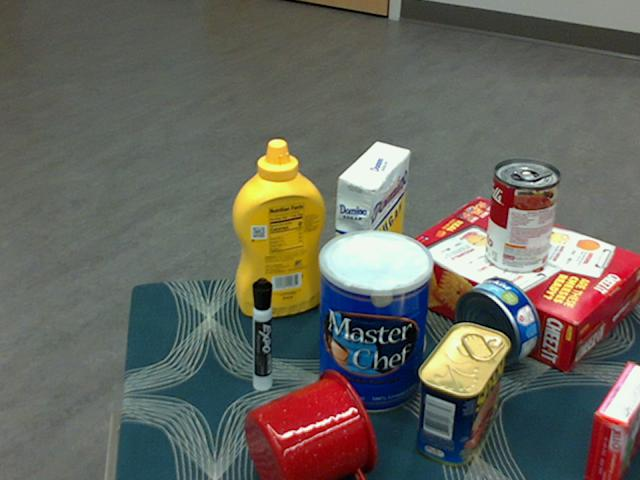cracker_box: (396, 199, 639, 369)
gelatin_box: (582, 362, 639, 479)
large_marker: (250, 277, 271, 392)
master_chef_can: (318, 230, 434, 415)
mug: (244, 369, 378, 479)
mustard_bottle: (231, 139, 325, 317)
potted_meat_can: (416, 323, 510, 466)
sugar_box: (329, 143, 411, 331)
tomato_soup_can: (485, 160, 560, 275)
tuna_fish_can: (456, 276, 541, 366)
